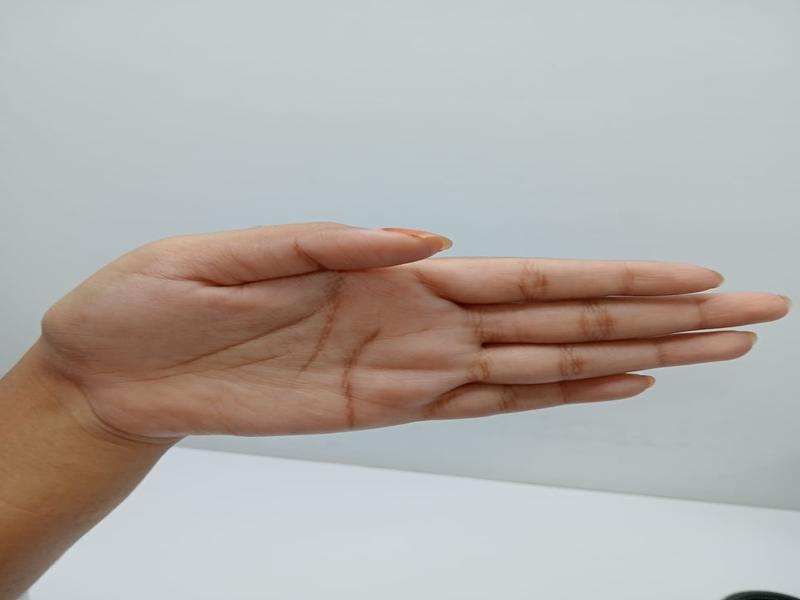DOWN: (6, 193, 796, 572)
